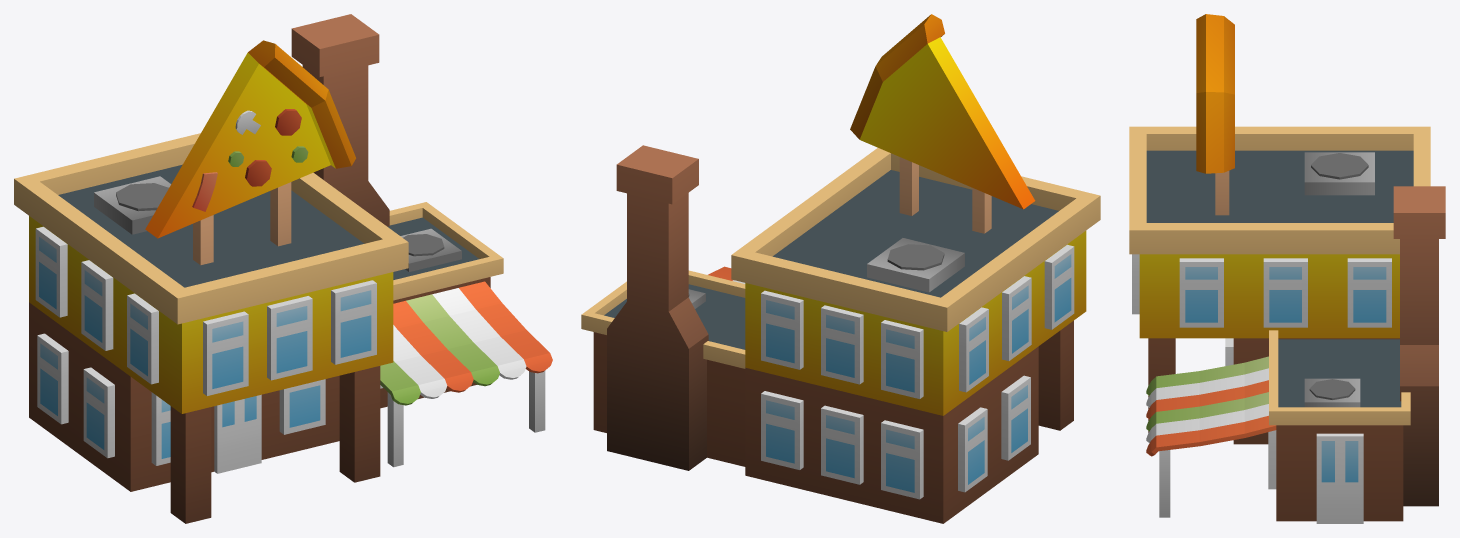
Rendered from pizzeria house.fbx.
3 views of the same model, side by side, from view 1: azimuth 30°, elevation 25°; view 2: azimuth 150°, elevation 25°; view 3: azimuth 270°, elevation 25° (orthographic). The views are drawn at different scales.
Visible parts, largest first — view 1: pizzeria_house; view 2: pizzeria_house; view 3: pizzeria_house.
Part boxes in pixels (x1,y1,x2,y2): pizzeria_house: (14, 14, 552, 523); pizzeria_house: (581, 14, 1100, 523); pizzeria_house: (1129, 14, 1445, 523).
Bounding box in the file's own units: 917 × 934 × 679.
1 material, 1 textured.
